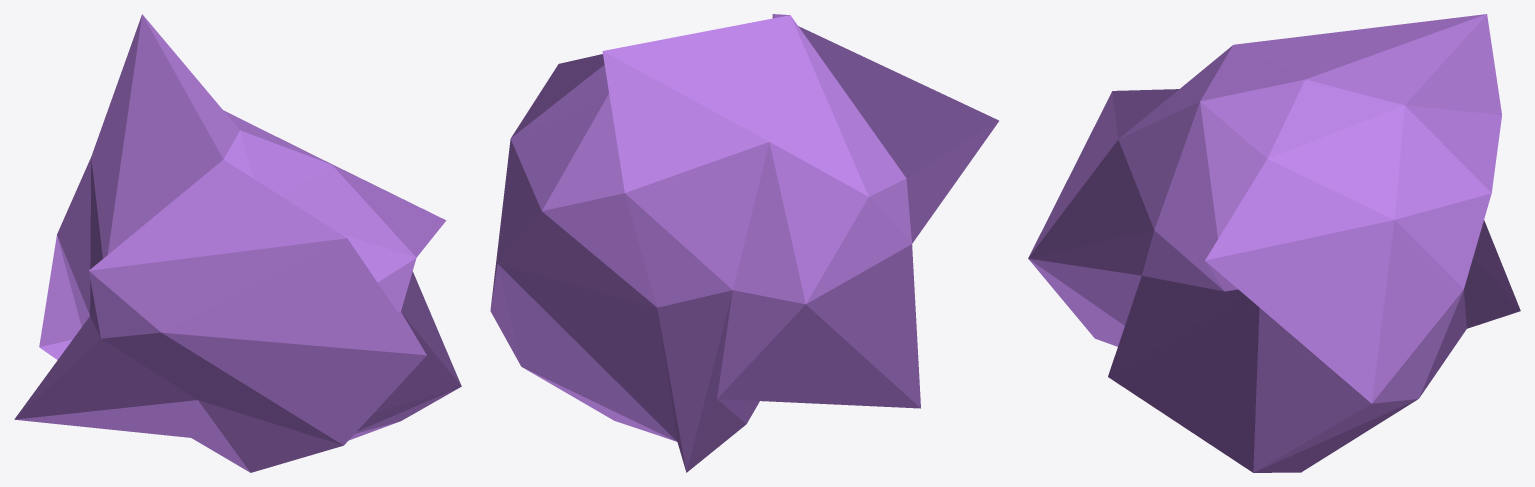
The model's file is Intro_Ball 1.fbx.
The picture shows the model from 3 angles, left to right: view 1: azimuth 30°, elevation 25°; view 2: azimuth 150°, elevation 25°; view 3: azimuth 270°, elevation 25°; orthographic projection. The views are drawn at different scales.
Parts seen in each view (by area): view 1: Icosphere; view 2: Icosphere; view 3: Icosphere.
Boxes of the visible parts, bbox=[...] form: Icosphere: bbox=[14, 14, 461, 472]; Icosphere: bbox=[490, 14, 998, 472]; Icosphere: bbox=[1028, 14, 1520, 472].
Bounding box in the file's own units: 344 × 353 × 377.
